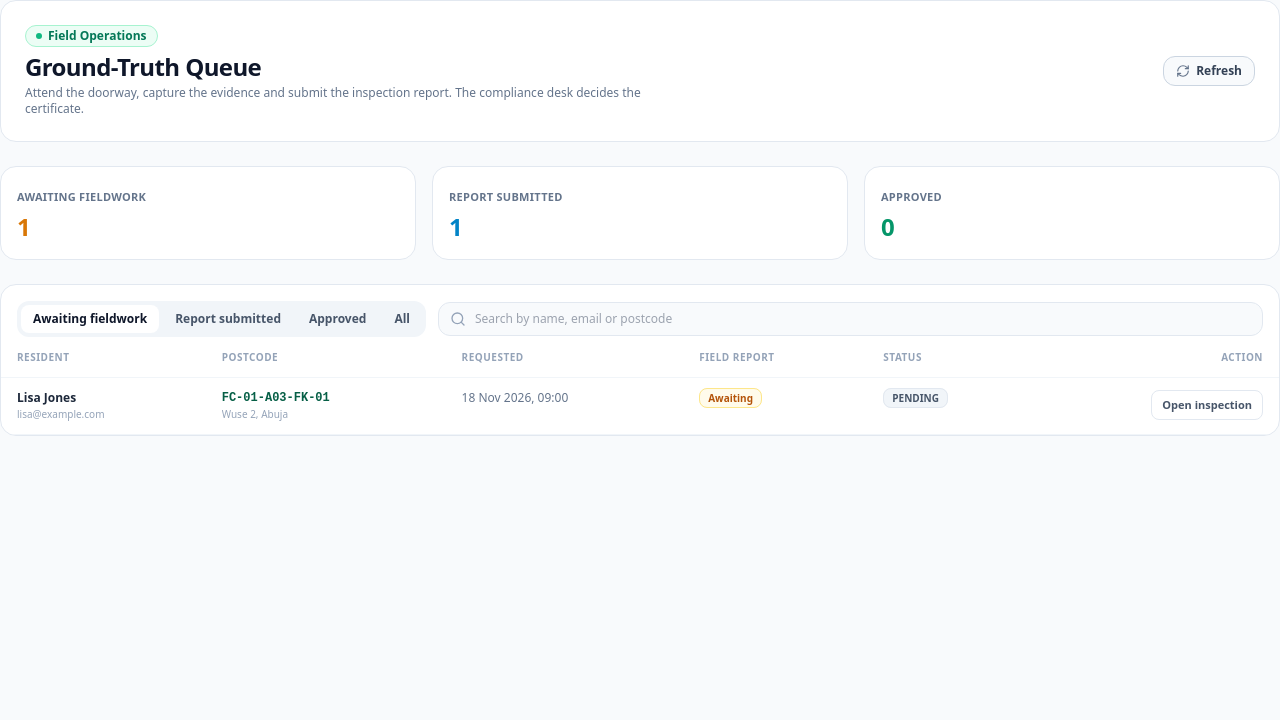
Scenario: GroundTruthQueue › submits a doorway inspection report for compliance review
The width and height of the screenshot is (1280, 720).
Later steps or results of the test are not shown.
Click the button "Open inspection". click: (1207, 405)
box: [1151,390,1263,420]
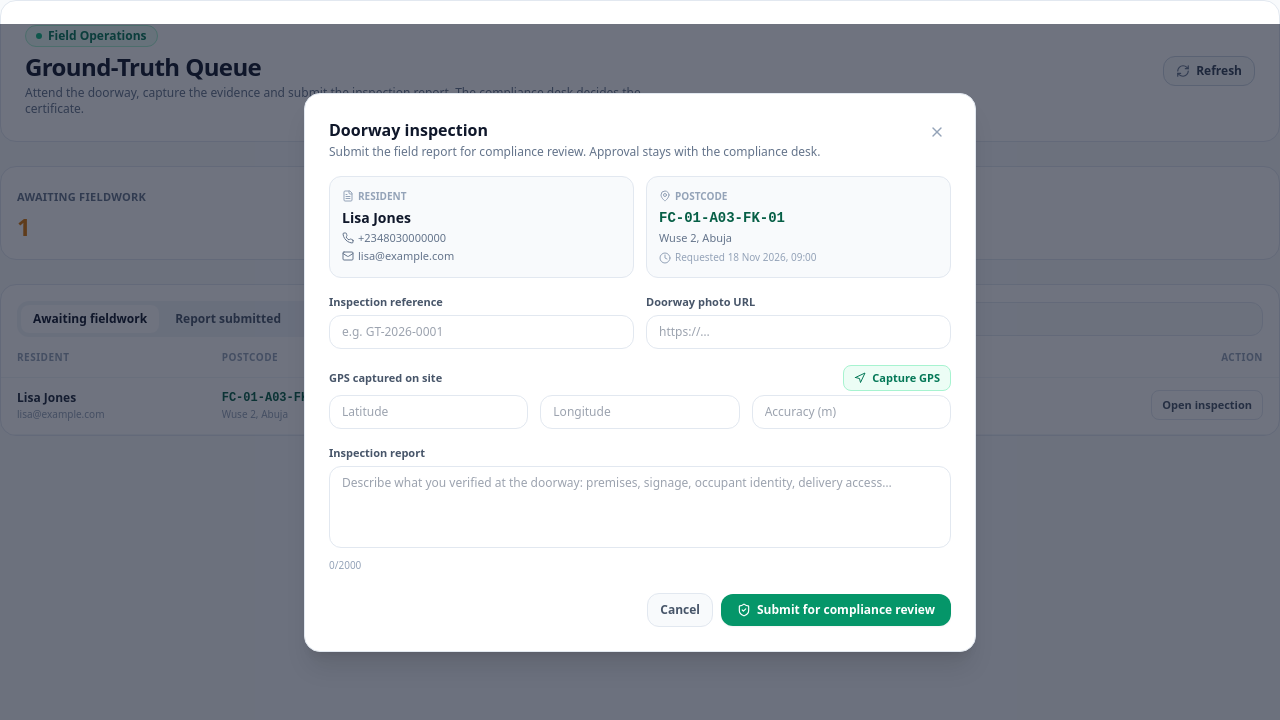
expect the text "Lisa Jones" in the row of "PENDING" is shown: met, box [17,389,76,406]
expect the heading "Doorway inspection" is shown: met, box [329,118,488,140]
